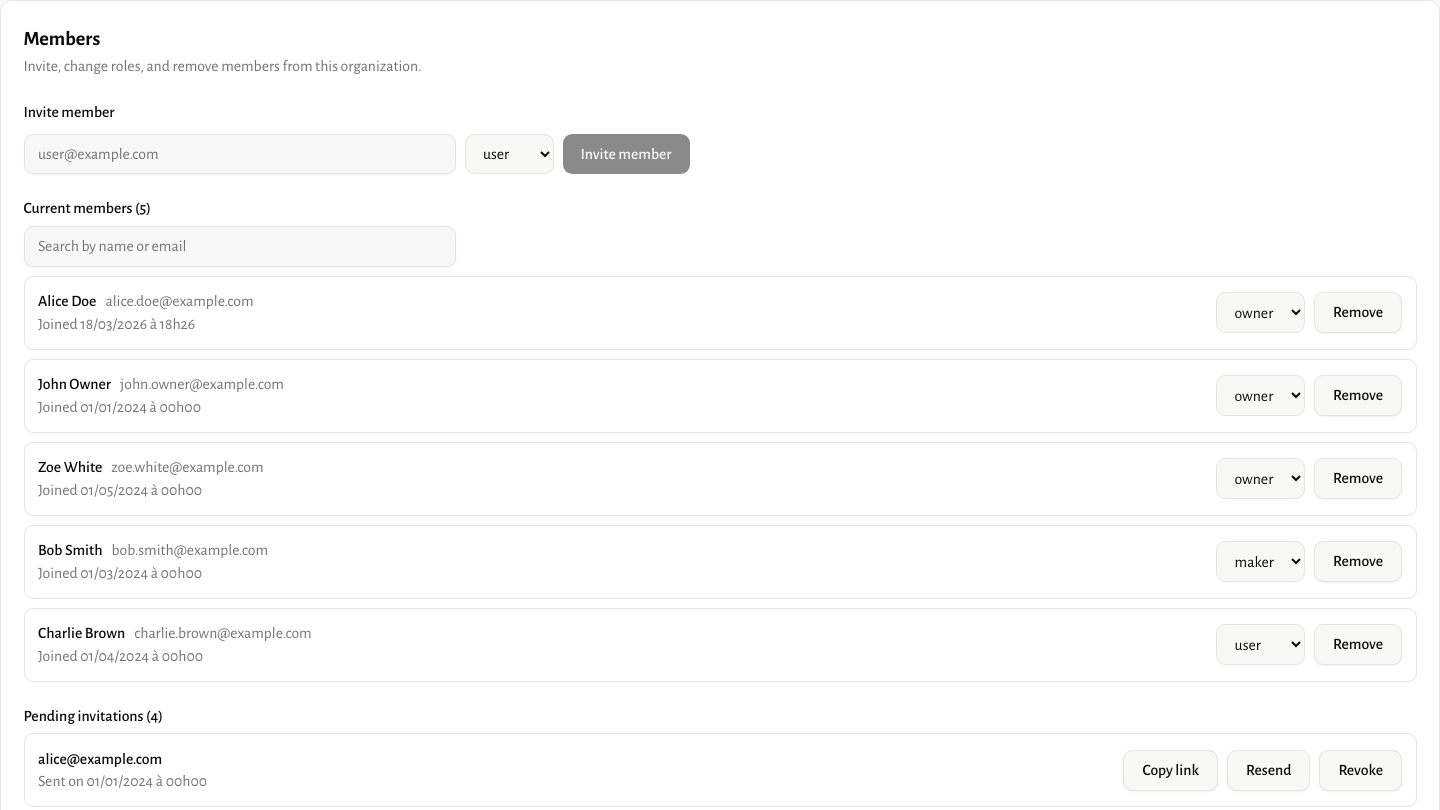
Test case: OrganizationMembersPanel › should filter current members by name using the search input
The width and height of the screenshot is (1440, 810).
Step 1. Type "alice" into the field with placeholder "Search by name or email" → (240, 246), box [24,226,456,266]
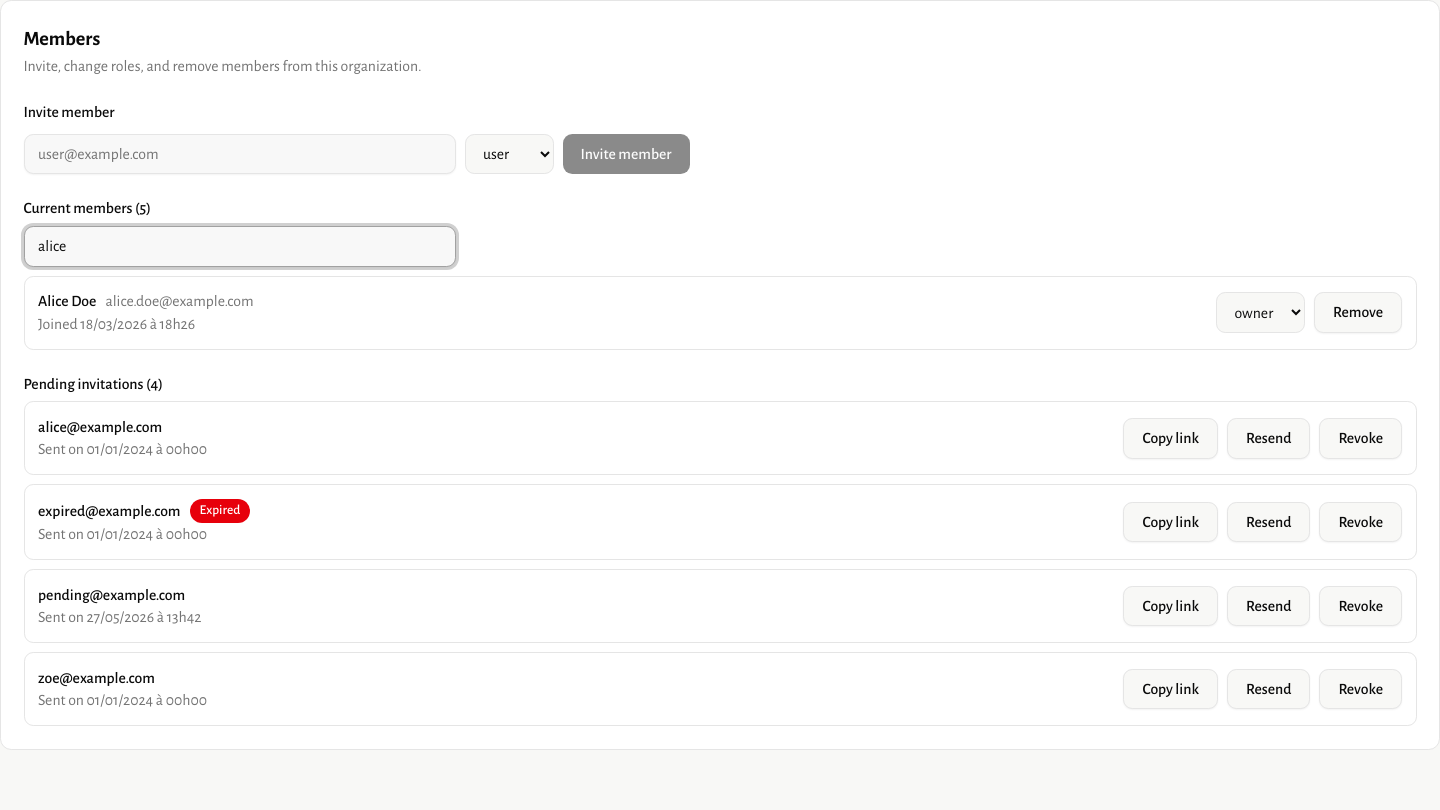
Now the text "Bob Smith" is gone
Now the text "Charlie Brown" is gone
Now the text "John Owner" is gone
